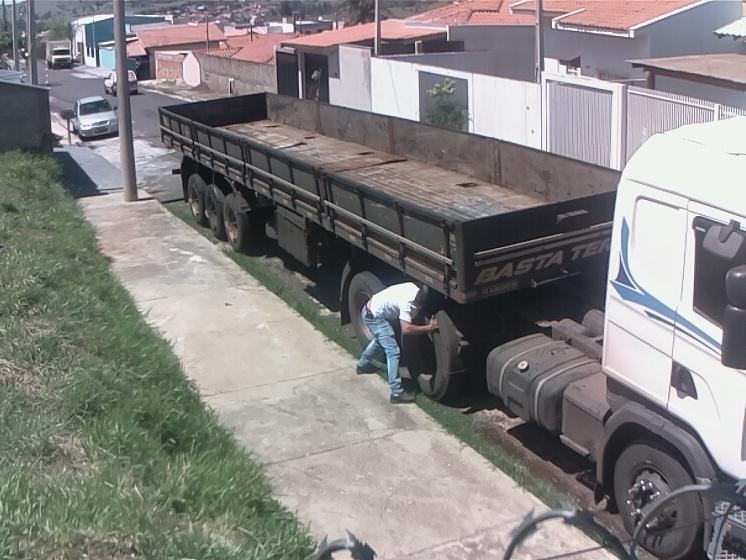person: (355, 281, 440, 405)
